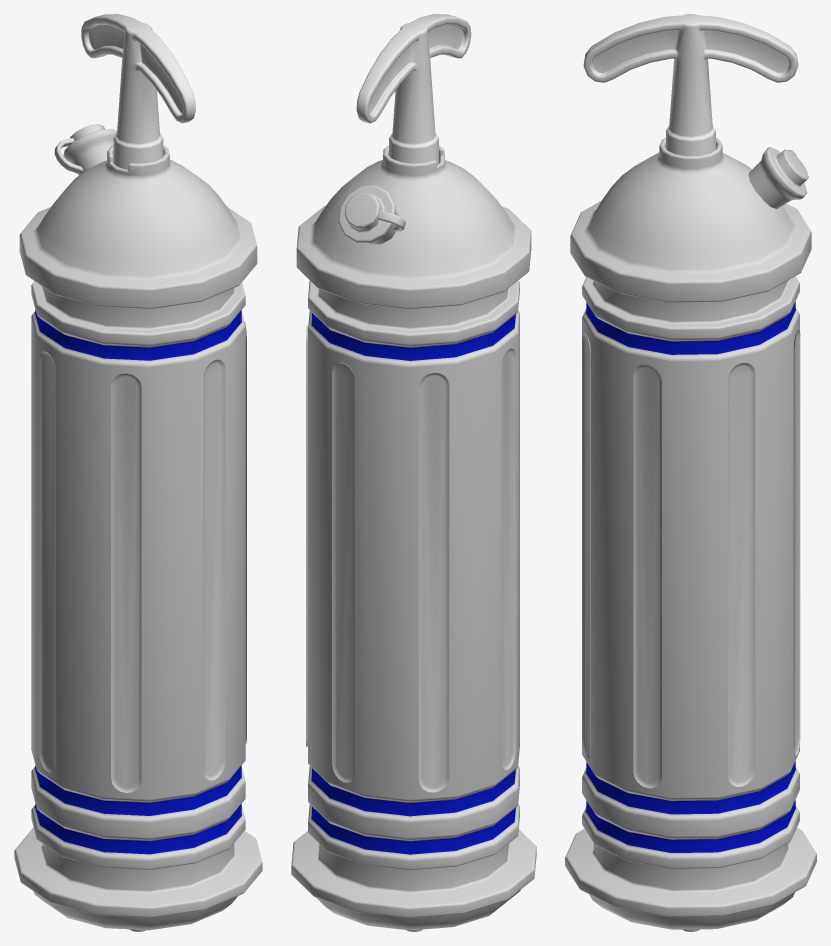
The model's file is SM_FireExtinguisher_high.fbx.
3 renders of one model, left to right at view 1: azimuth 30°, elevation 25°; view 2: azimuth 150°, elevation 25°; view 3: azimuth 270°, elevation 25°, orthographic.
Parts seen in each view (by area): view 1: FireExtinguisher1_high, FireExtinguisher2_high; view 2: FireExtinguisher1_high, FireExtinguisher2_high; view 3: FireExtinguisher1_high, FireExtinguisher2_high.
Boxes of the visible parts, <box> form: FireExtinguisher1_high: <box>14,124,262,931</box>; FireExtinguisher2_high: <box>81,14,195,169</box>; FireExtinguisher1_high: <box>291,145,536,931</box>; FireExtinguisher2_high: <box>356,14,471,164</box>; FireExtinguisher1_high: <box>565,137,816,931</box>; FireExtinguisher2_high: <box>583,14,798,155</box>.
Bounding box in the file's own units: 0.2127 × 0.8613 × 0.2163.
